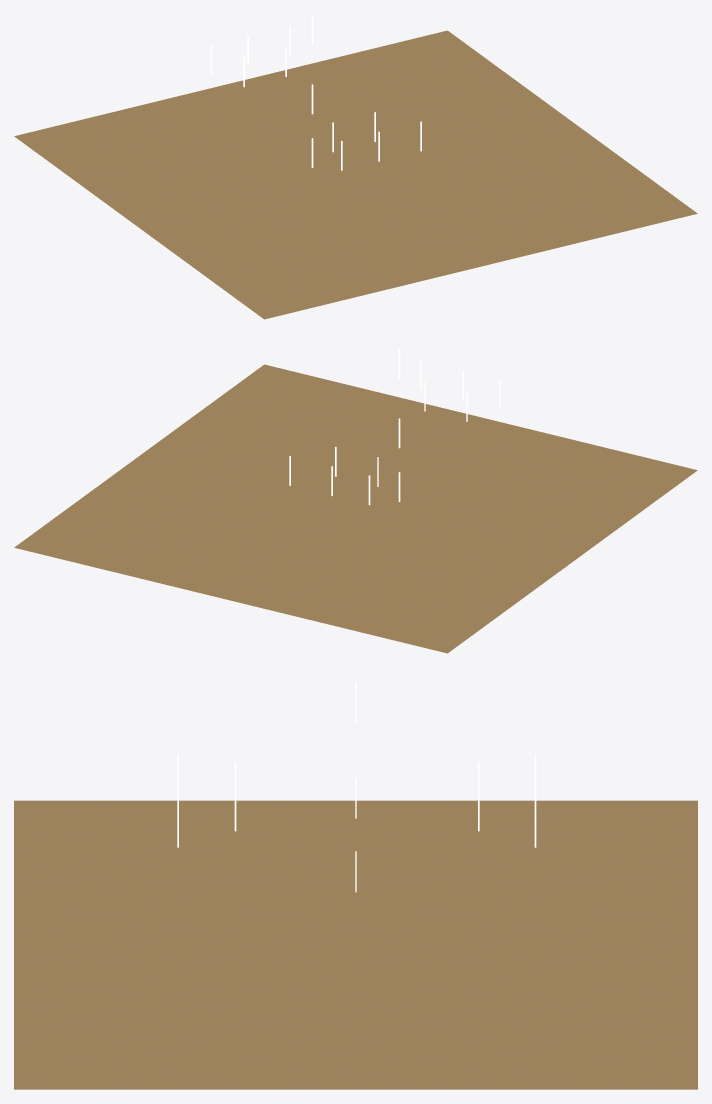
The model's file is bloom_light.glb.
3 views of the same model, one above another, from view 1: azimuth 30°, elevation 25°; view 2: azimuth 150°, elevation 25°; view 3: azimuth 270°, elevation 25° (orthographic). The views are drawn at different scales.
Visible parts, largest first — view 1: pPlane1; view 2: pPlane1; view 3: pPlane1.
Boxes of the visible parts, x1,y1,x2,y2 form: pPlane1: (14,30,697,319); pPlane1: (14,364,697,653); pPlane1: (14,800,697,1089).
Bounding box in the file's own units: 405 × 152 × 405.
Materials: 2 (1 with a texture image).
